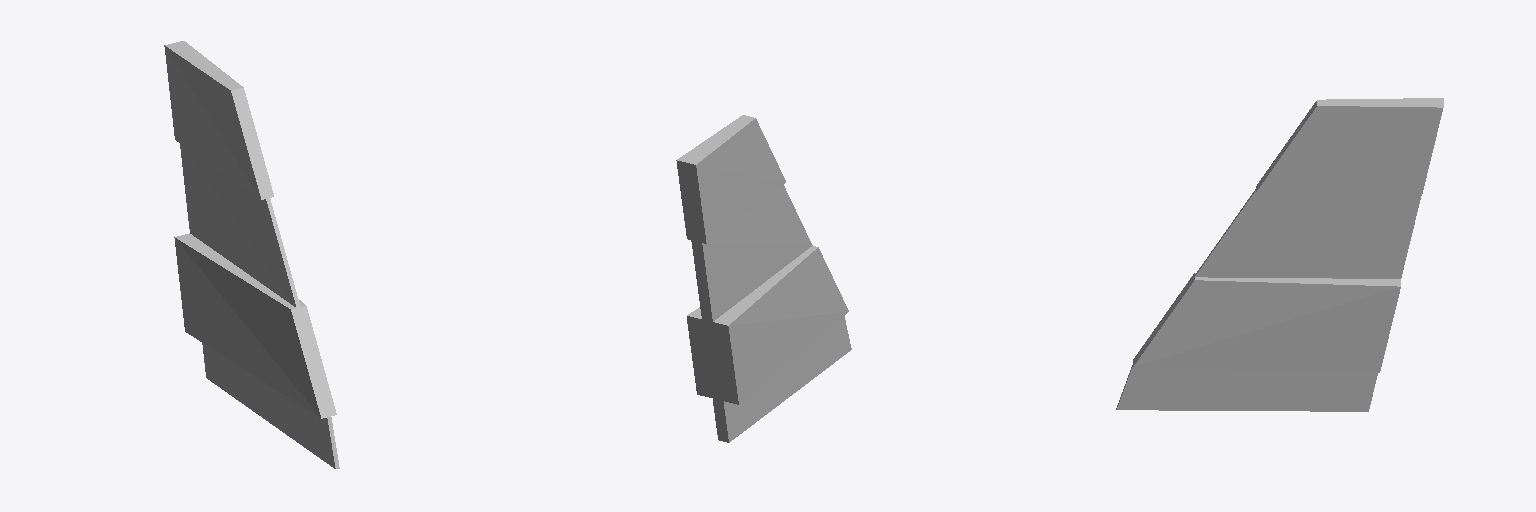
The model's file is Fin03.obj.
The picture shows the model from 3 angles: view 1: azimuth 30°, elevation 25°; view 2: azimuth 150°, elevation 25°; view 3: azimuth 270°, elevation 25°; orthographic projection.
Parts seen in each view (by area): view 1: Fin03_Cube.002; view 2: Fin03_Cube.002; view 3: Fin03_Cube.002.
Boxes of the visible parts, x1,y1,x2,y2 form: Fin03_Cube.002: [164, 41, 339, 468]; Fin03_Cube.002: [676, 115, 851, 442]; Fin03_Cube.002: [1116, 98, 1443, 411].
Bounding box in the file's own units: 0.5968 × 4.16 × 4.03.